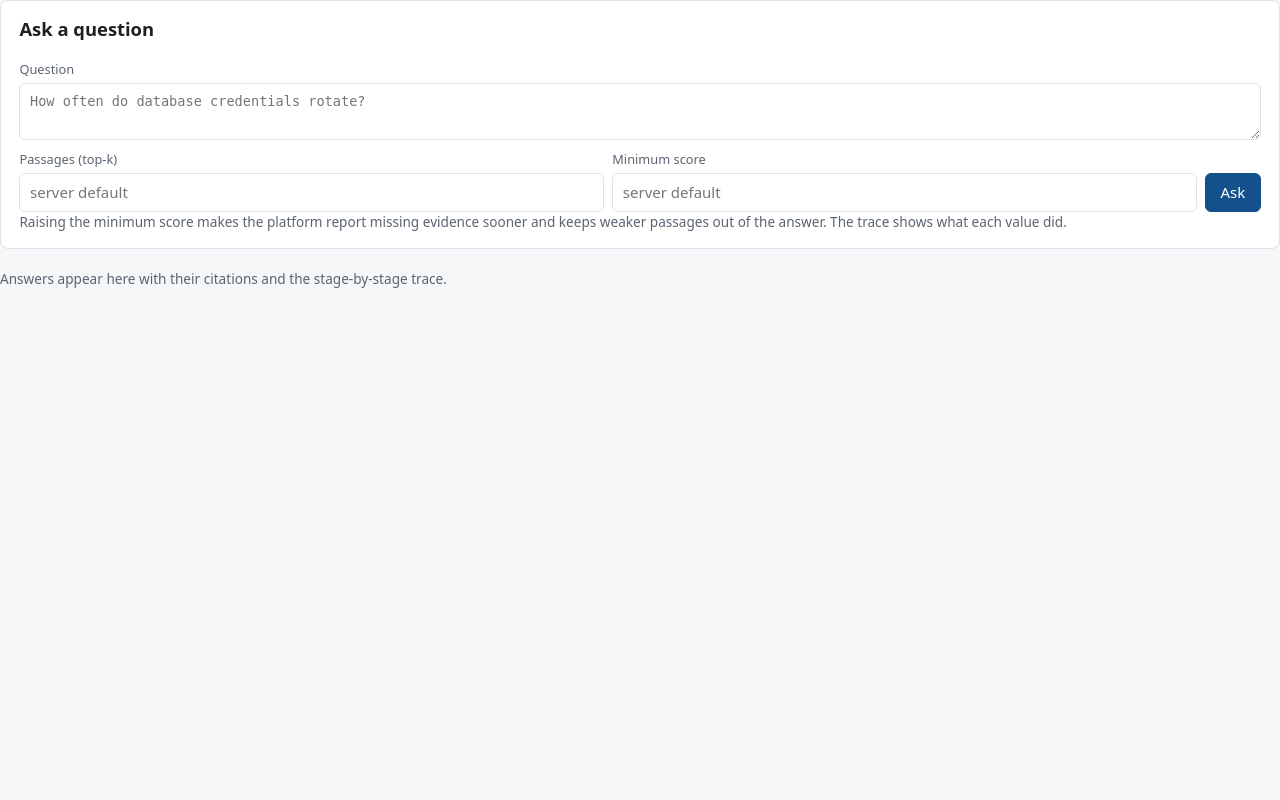
QueryPanel › shows the answer with its citations and the trace of the request
Type "How often do credentials rotate?" into the text box labelled "Question" at (640, 112), box x1=19 y1=83 x2=1261 y2=140
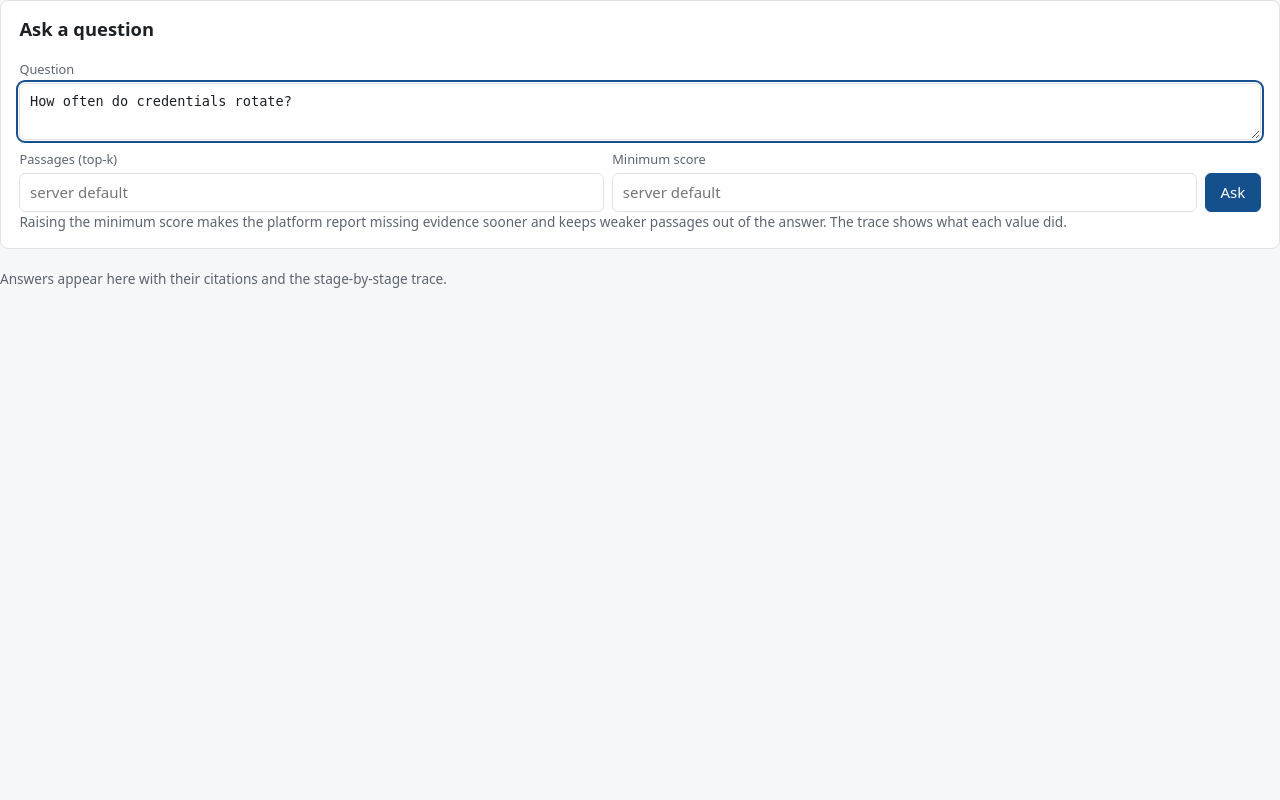
Click the button "Ask" at (1233, 193), box x1=1205 y1=173 x2=1261 y2=212
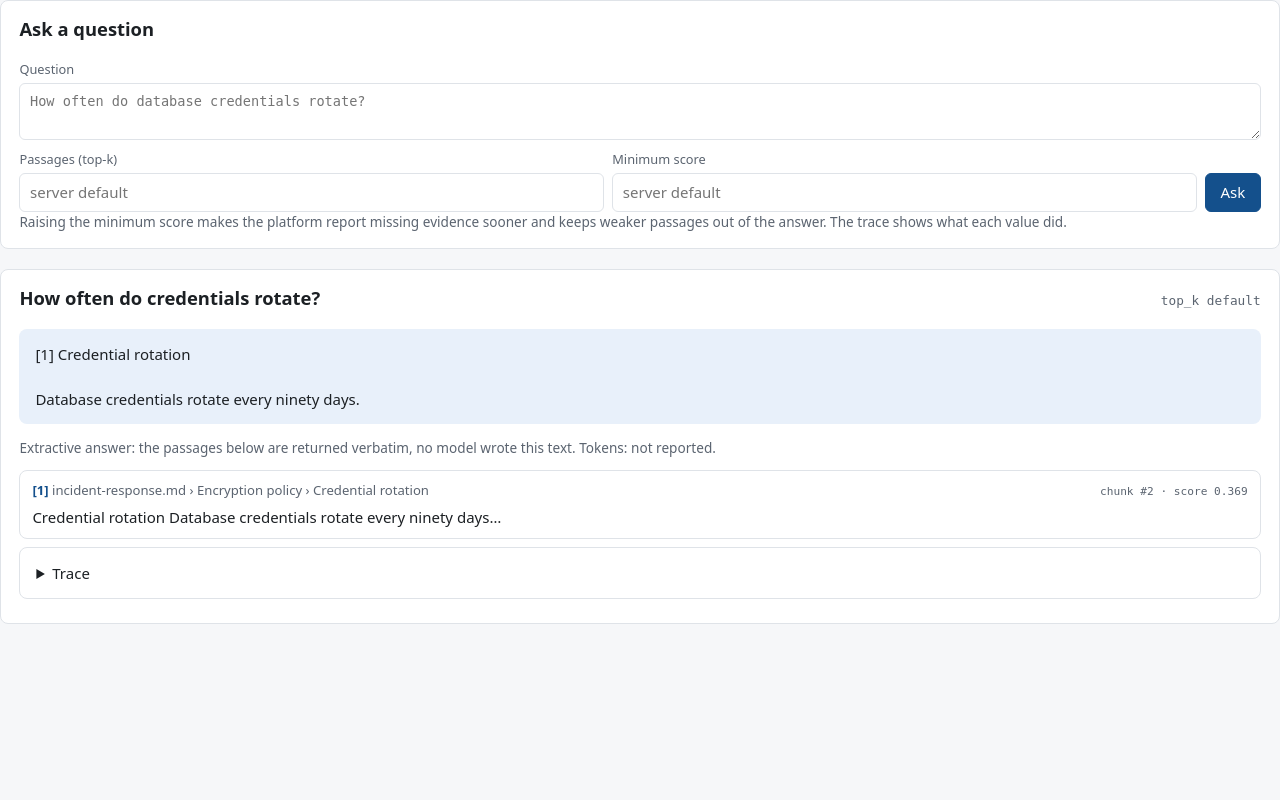
Now the text "[1] Credential rotation" is shown, box x1=35 y1=344 x2=360 y2=409
Now the text "incident-response.md" is shown, box x1=52 y1=481 x2=186 y2=499
Now the text "Encryption policy › Credential rotation" is shown, box x1=186 y1=481 x2=429 y2=499
// The trace is present and named, with the request id that ties it to the logs.
Click the heading "Trace" at (71, 573), box x1=52 y1=563 x2=90 y2=583
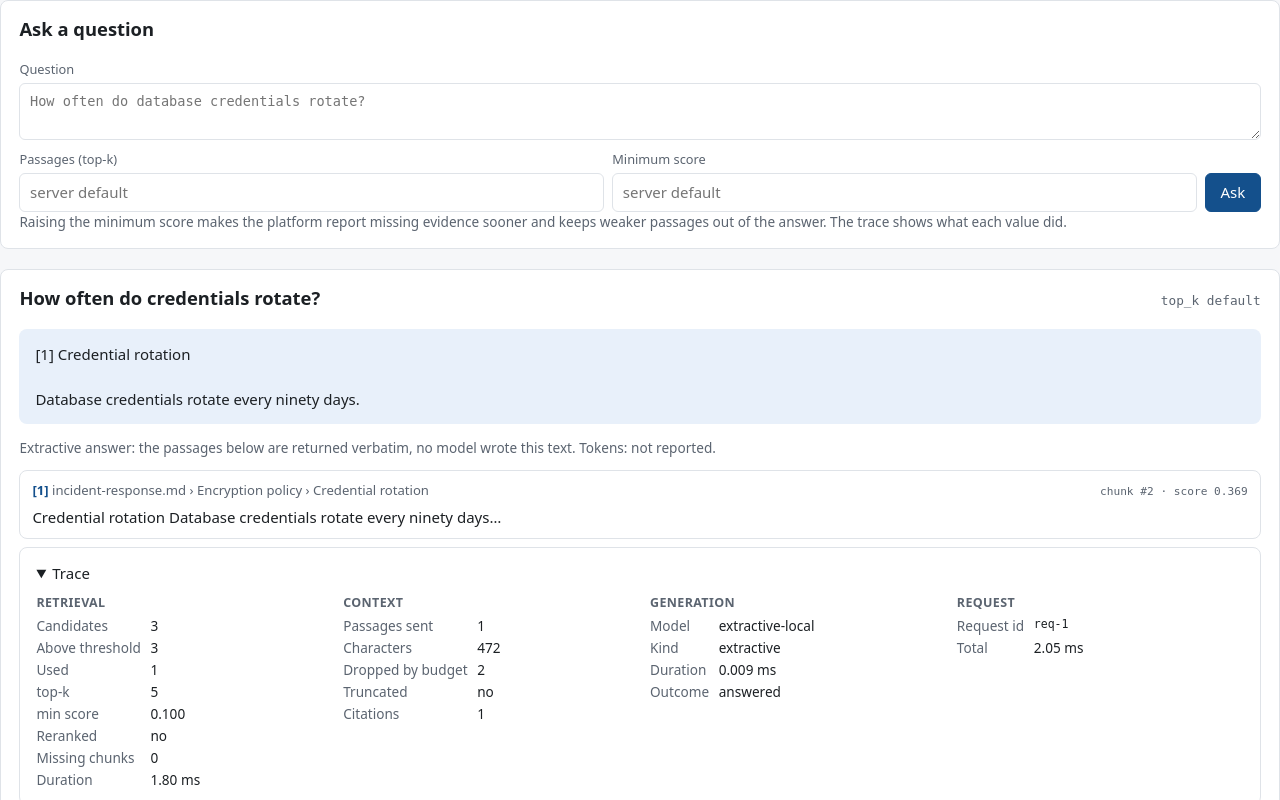
Now the text "req-1" is shown, box x1=1034 y1=617 x2=1069 y2=631
Now the text "extractive-local" is shown, box x1=719 y1=616 x2=814 y2=635
